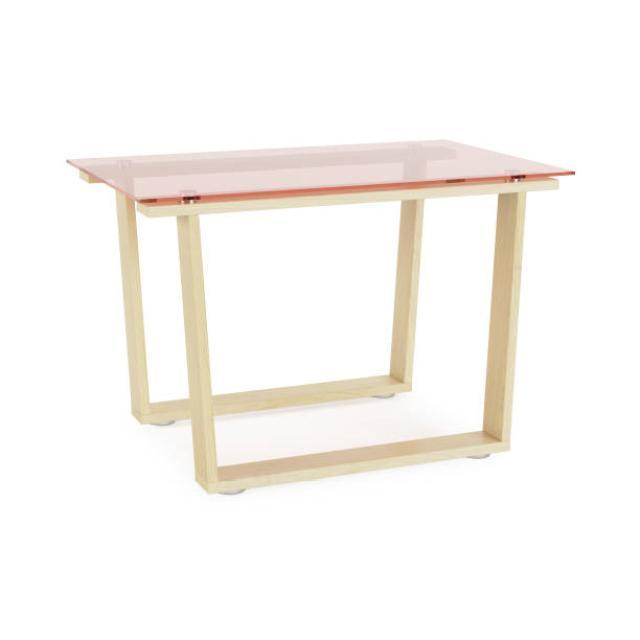table: (65, 137, 576, 495)
